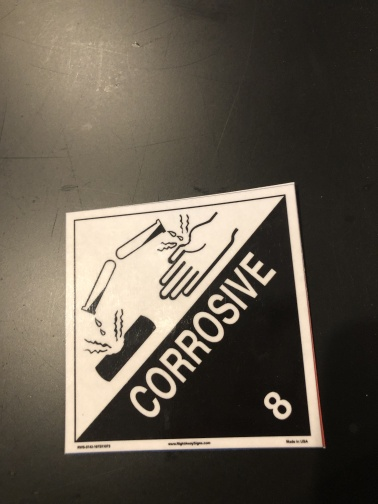Corrosive: (67, 202, 315, 441)
